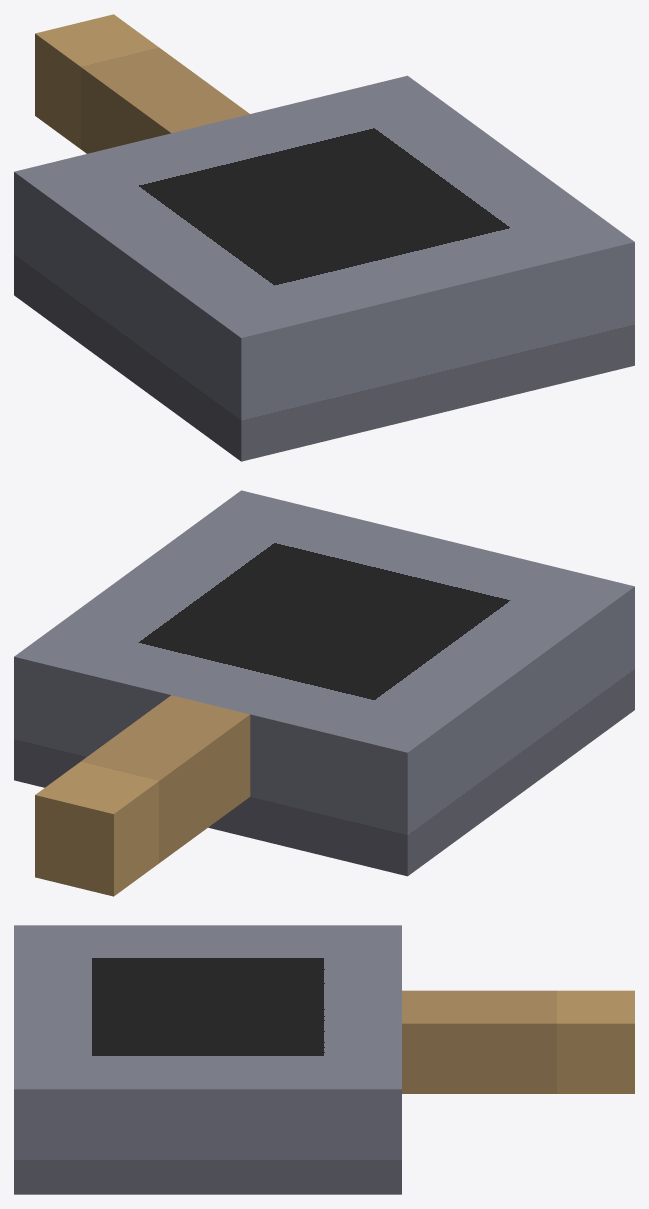
Rendered from frying_pan.glb.
3 renders of one model, top to bottom at view 1: azimuth 30°, elevation 25°; view 2: azimuth 150°, elevation 25°; view 3: azimuth 270°, elevation 25°, orthographic. The views are drawn at different scales.
Parts seen in each view (by area): view 1: cube; view 2: cube; view 3: cube.
Part boxes in pixels (x1=…): cube: x1=14, y1=14, x2=634, y2=461; cube: x1=14, y1=490, x2=634, y2=896; cube: x1=14, y1=925, x2=634, y2=1194.
Size of the model in its own units: 0.625 by 0.1875 by 1.
1 material, 1 textured.
